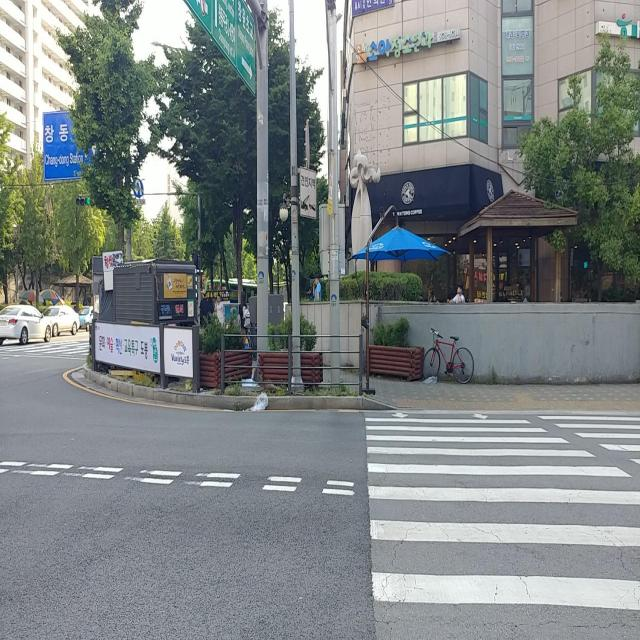횡단보도: (364, 413, 638, 614), (0, 336, 94, 356)
